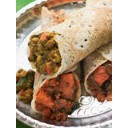dosa: (28, 1, 112, 121)
